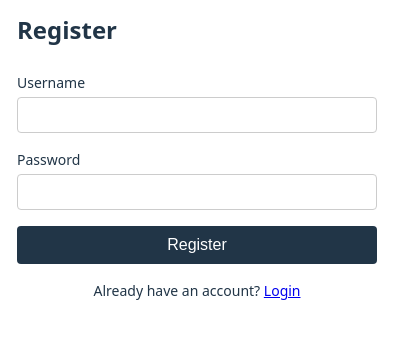
registerPage › shows validation error for short password
The image size is (395, 340).
In the field labelled "Username": (197, 115) [17, 97, 377, 133], type "alice"
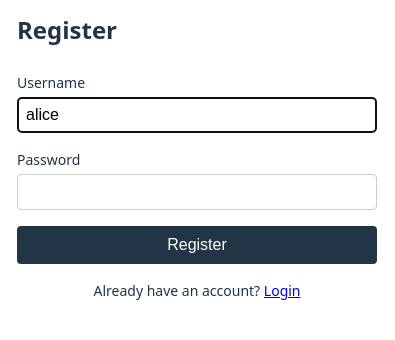
In the password field labelled "Password": (197, 192) [17, 174, 377, 210], type "short"
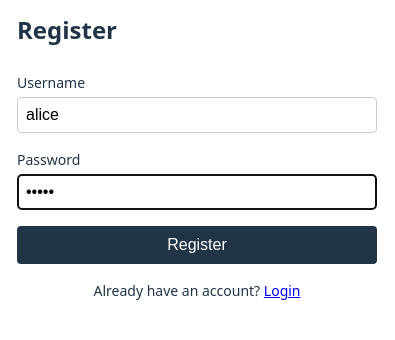
Click the button "Register": (197, 245) [17, 226, 377, 264]
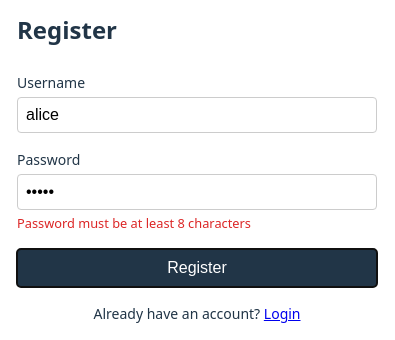
Result: the text "Password must be at least 8 characters" is shown at [17, 214, 251, 232]
